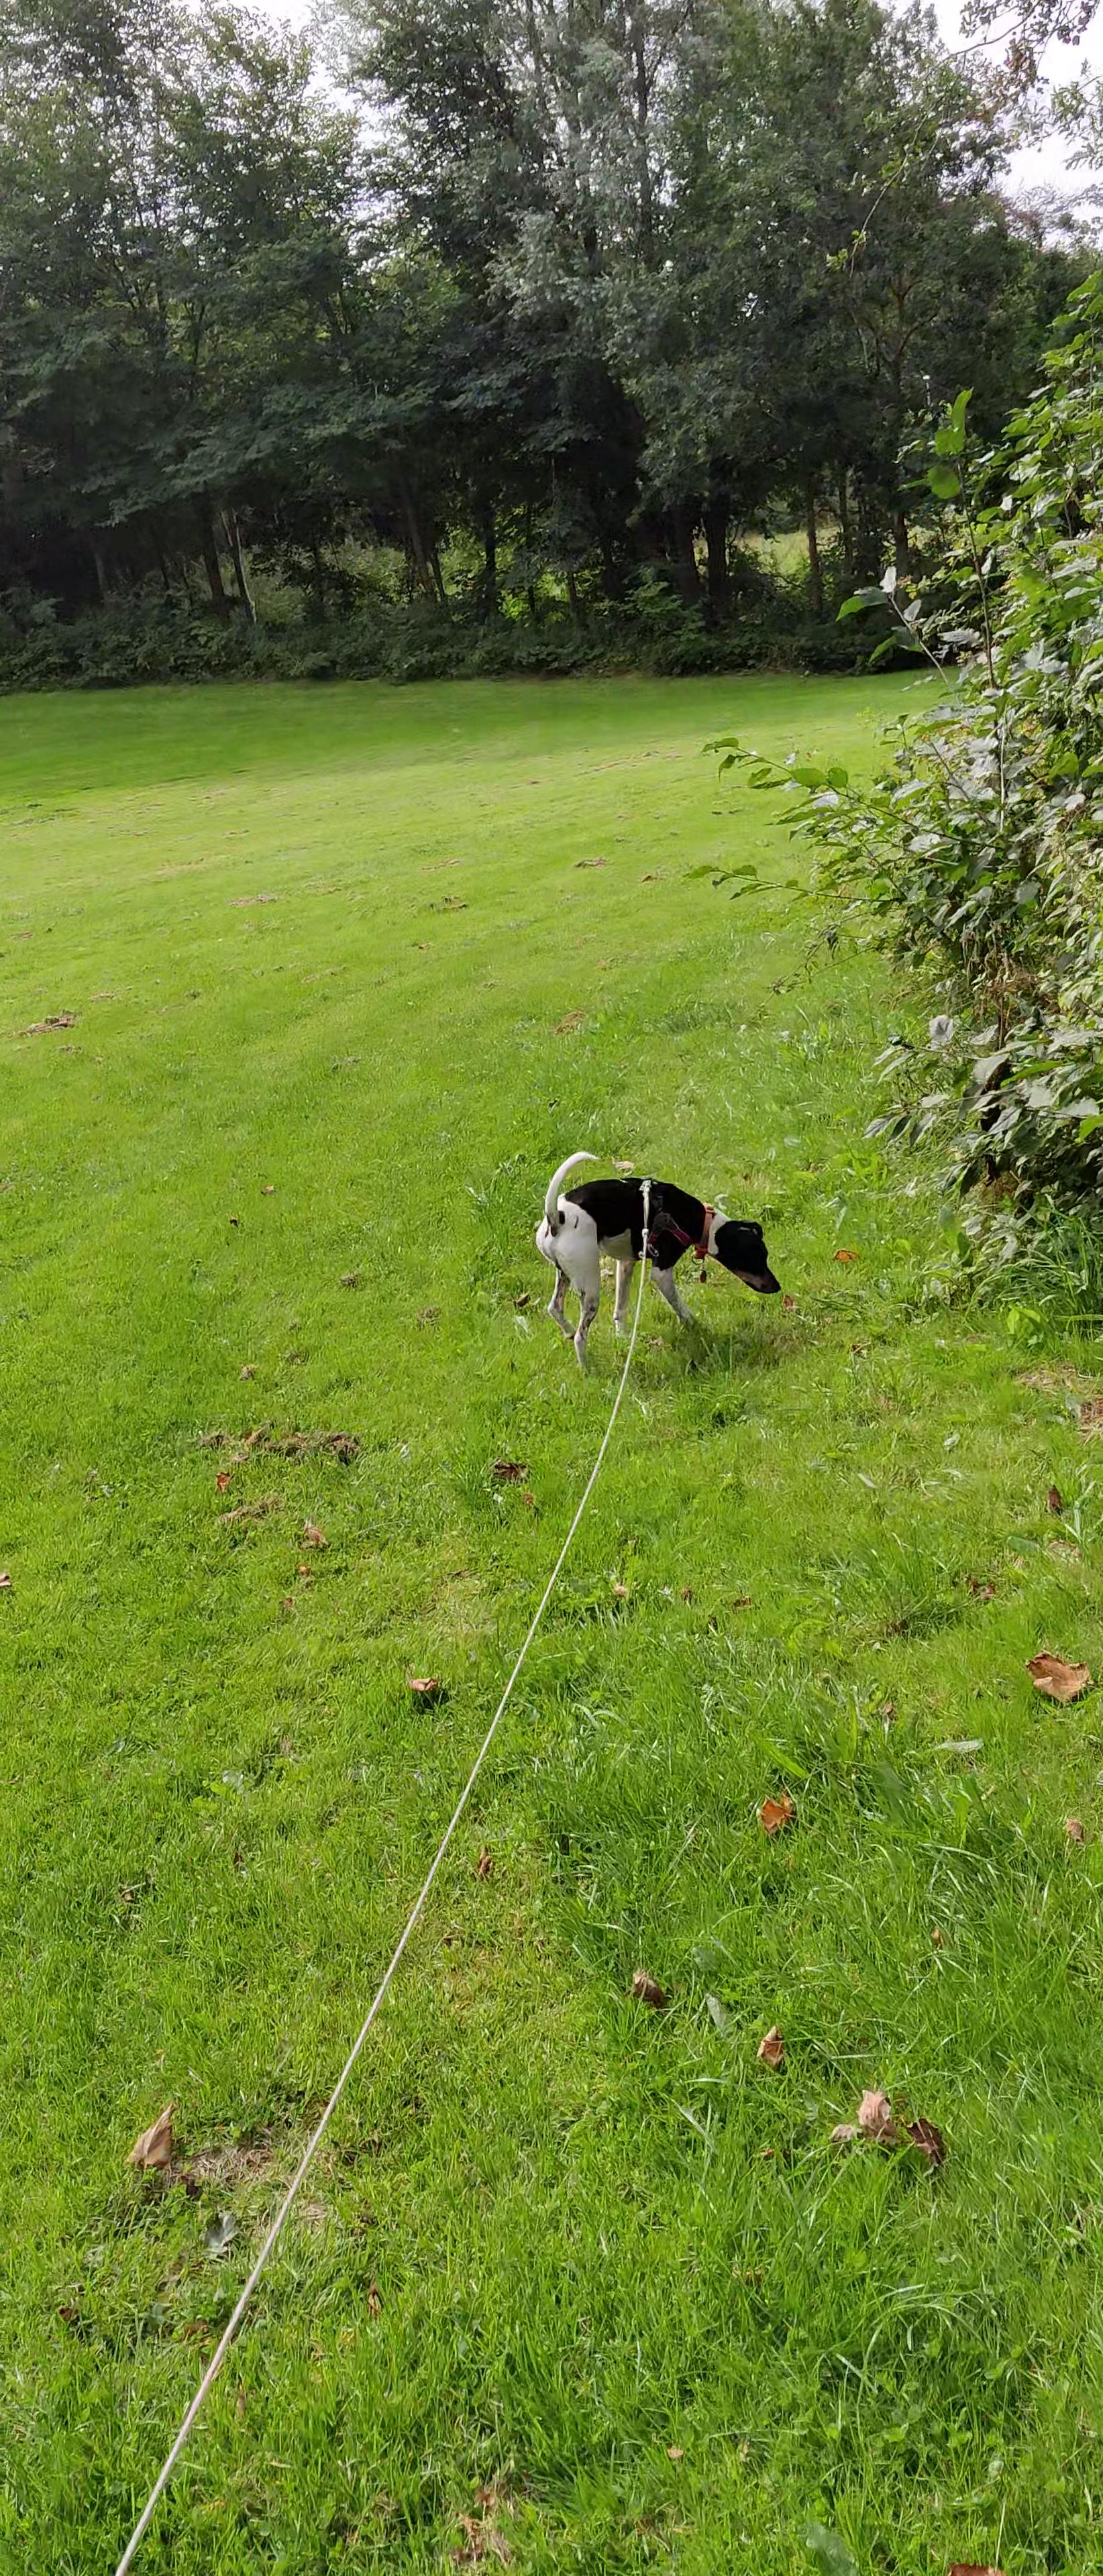Dog: (533, 1148, 787, 1368)
